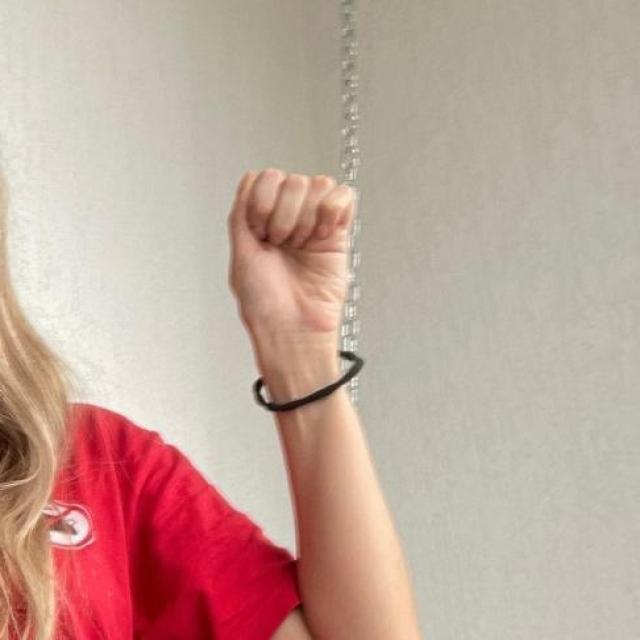hand: (226, 166, 357, 338)
